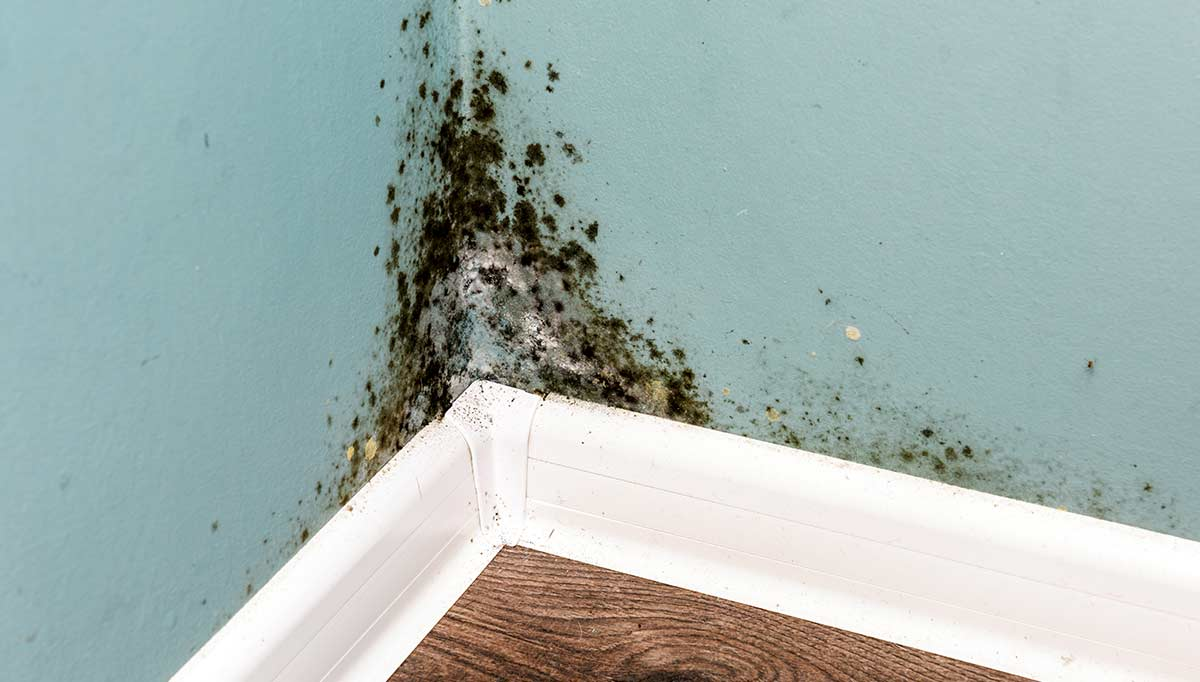schimmel: (471, 61, 583, 383), (421, 71, 467, 404), (373, 209, 423, 421), (583, 278, 629, 394), (344, 422, 378, 475)
